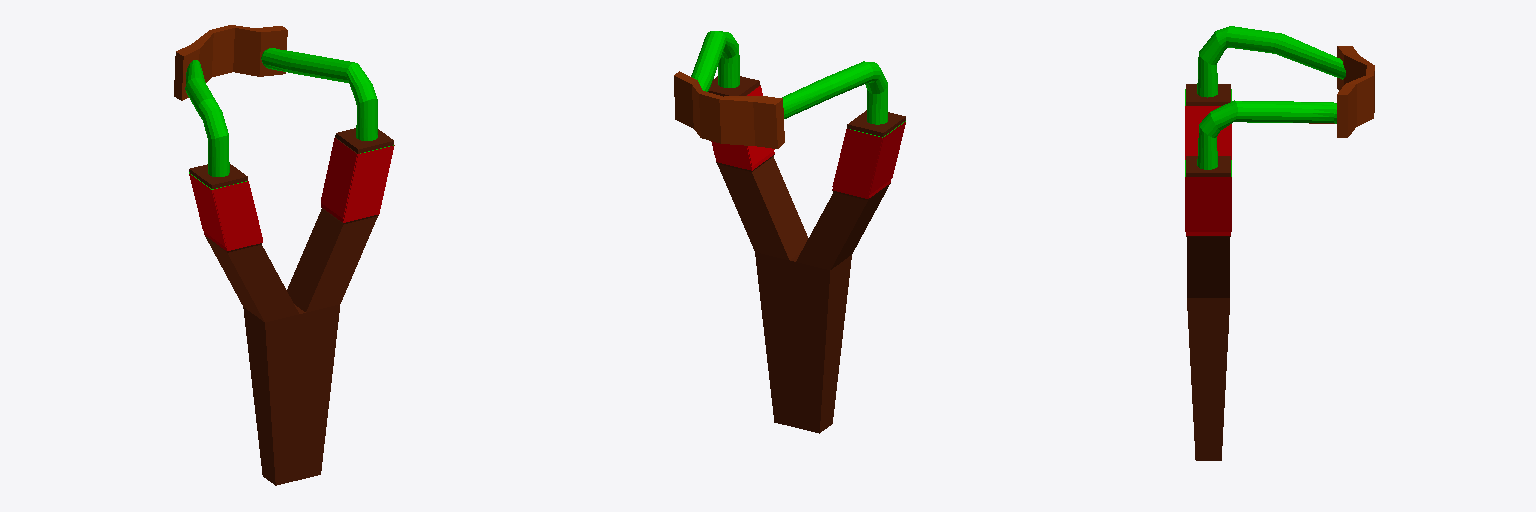
The model's file is estilinguee.obj.
3 views of the same model, side by side, from view 1: azimuth 30°, elevation 25°; view 2: azimuth 150°, elevation 25°; view 3: azimuth 270°, elevation 25° (orthographic).
Parts seen in each view (by area): view 1: Estilingue_Material.004_0, Estilingue_Material_0, Estilingue_Material.003_0; view 2: Estilingue_Material.004_0, Estilingue_Material_0, Estilingue_Material.003_0; view 3: Estilingue_Material_0, Estilingue_Material.004_0, Estilingue_Material.003_0.
Part boxes in pixels (x1,y1,x2,y2): Estilingue_Material.004_0: (189,128,393,485); Estilingue_Material_0: (174,25,393,189); Estilingue_Material.003_0: (189,138,394,250); Estilingue_Material.004_0: (708,76,905,433); Estilingue_Material_0: (674,31,905,148); Estilingue_Material.003_0: (711,86,905,198); Estilingue_Material_0: (1185,26,1374,176); Estilingue_Material.004_0: (1186,84,1230,460); Estilingue_Material.003_0: (1185,106,1231,235).
Bounding box in the file's own units: 0.1996 × 0.4032 × 0.1793.